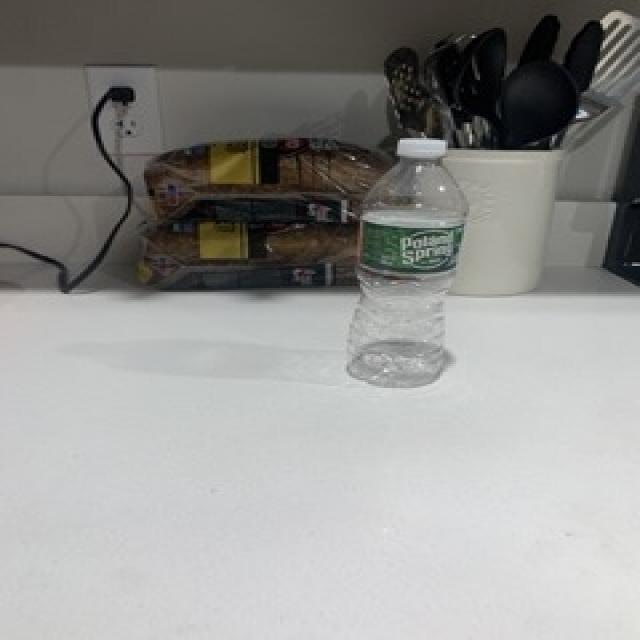water_bottle: (344, 137, 474, 390)
